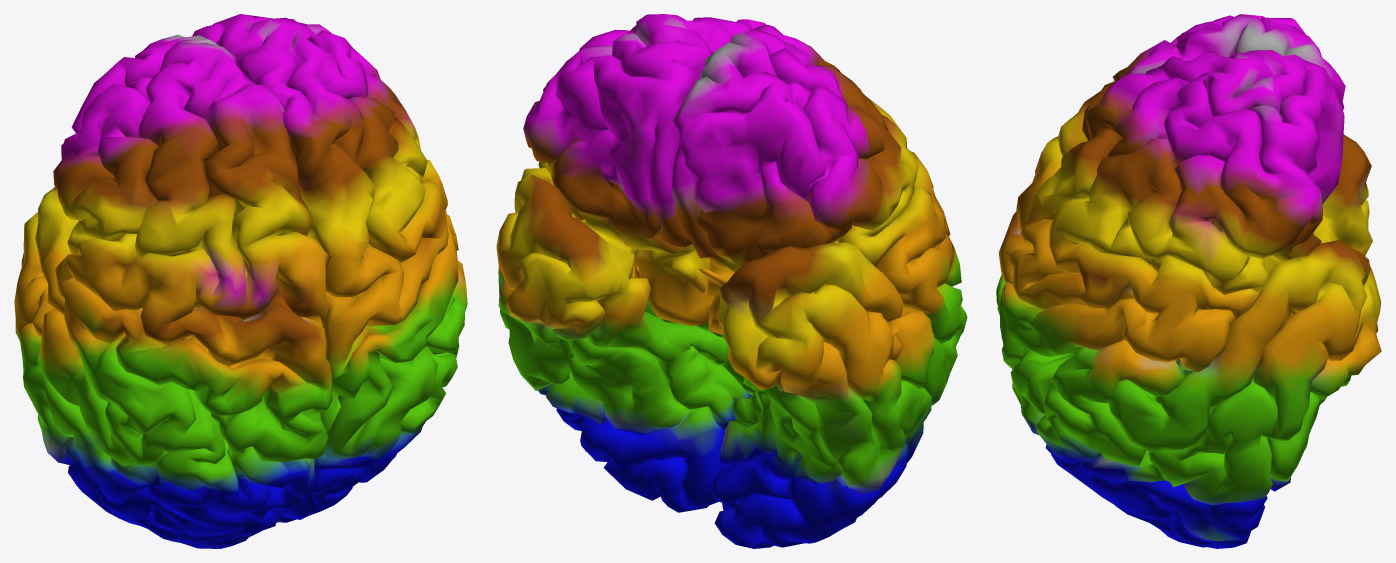
The model's file is brain_20k_colored.obj.
3 renders of one model, left to right at view 1: azimuth 30°, elevation 25°; view 2: azimuth 150°, elevation 25°; view 3: azimuth 270°, elevation 25°, orthographic. The views are drawn at different scales.
Size of the model in its own units: 139 by 170 by 119.
